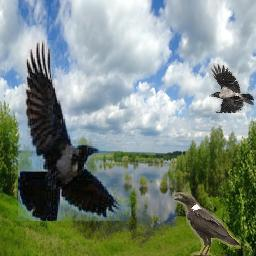Crow: (19, 41, 132, 222), (173, 192, 242, 256), (210, 63, 255, 113)
